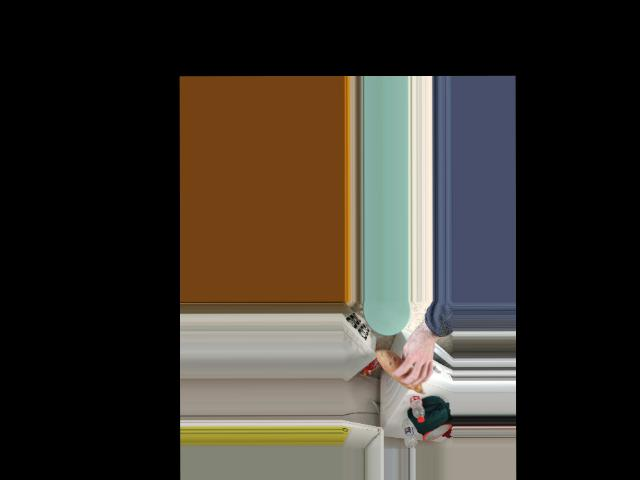sweet_potato: (378, 350, 428, 392)
